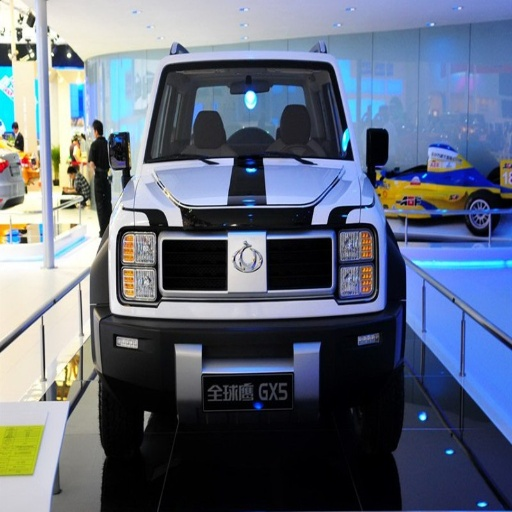front_bumper: (108, 199, 399, 467)
hood: (135, 160, 361, 206)
